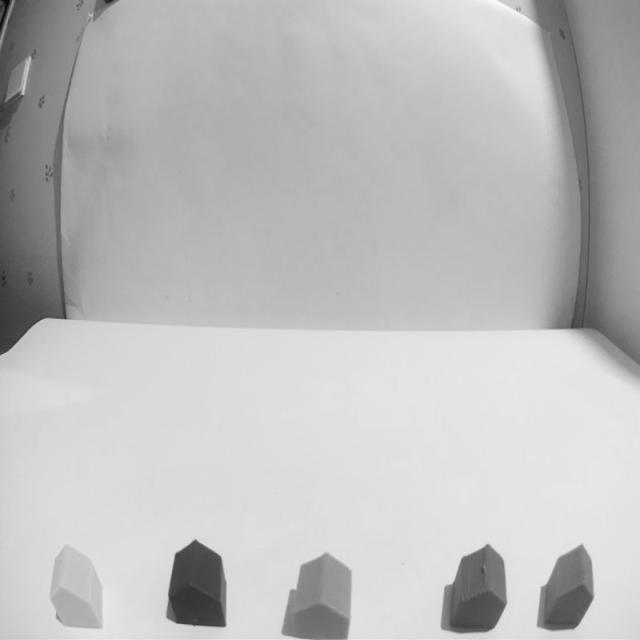home: (287, 553, 351, 638), (448, 545, 508, 630), (167, 540, 226, 626), (50, 545, 104, 630), (540, 545, 594, 628)
